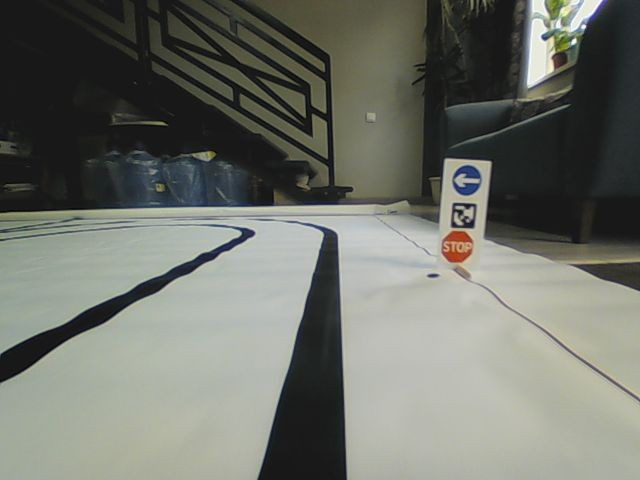Stop: (440, 229, 473, 263)
